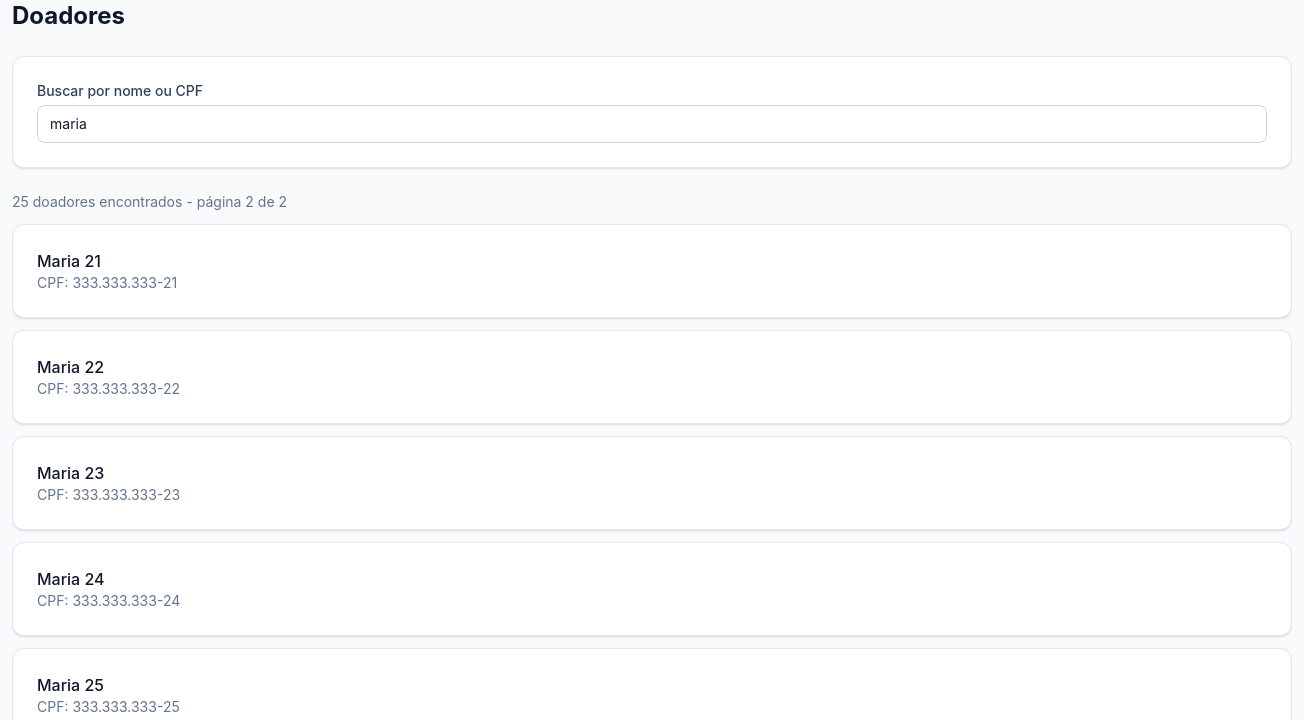
Test: AdminDonorsPage › uma busca nova vai para o endereço e volta para a página 1
expect the text "Maria 21" is shown: met, box [37, 251, 101, 271]
Replace the text in the field labelled "Buscar por nome ou CPF" with "joao". click: (652, 124)
box: [37, 105, 1267, 143]
(page scrolled)
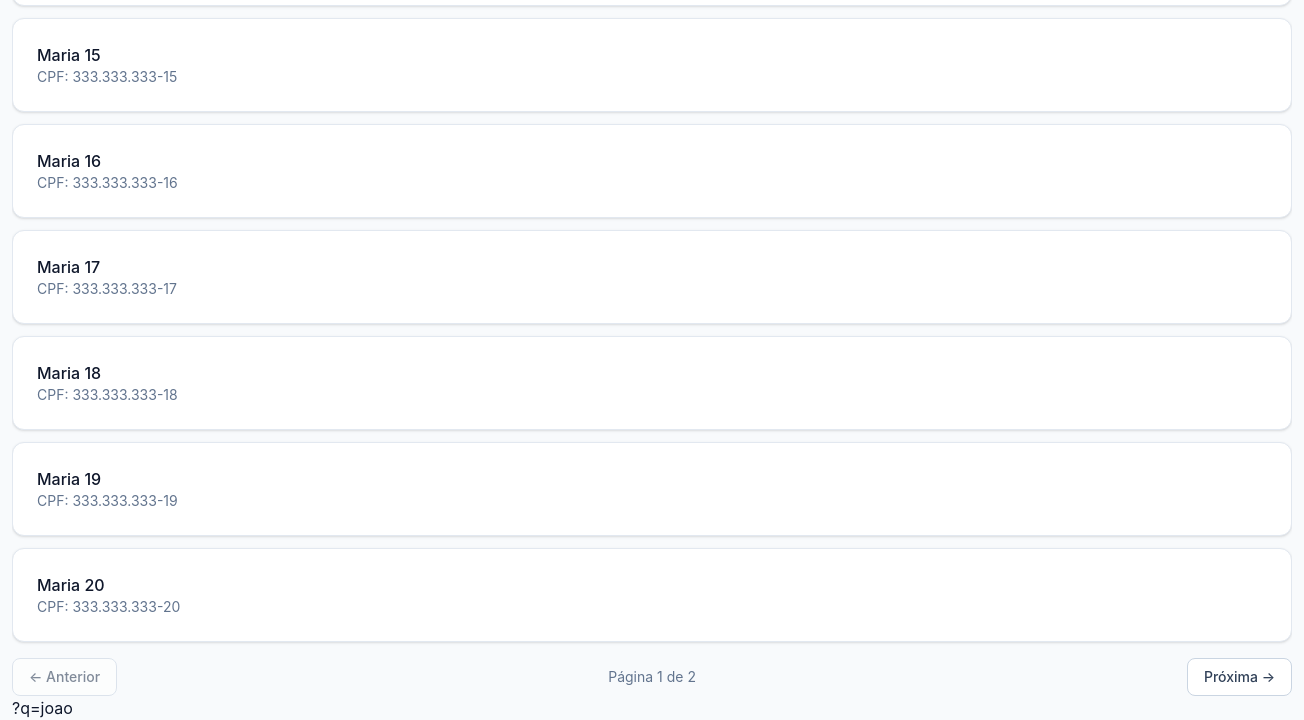
expect the text with test id "url" reads "?q=joao": met, box [12, 698, 73, 718]
expect the text with test id "url" no longer shows "page": met, box [12, 698, 73, 718]
